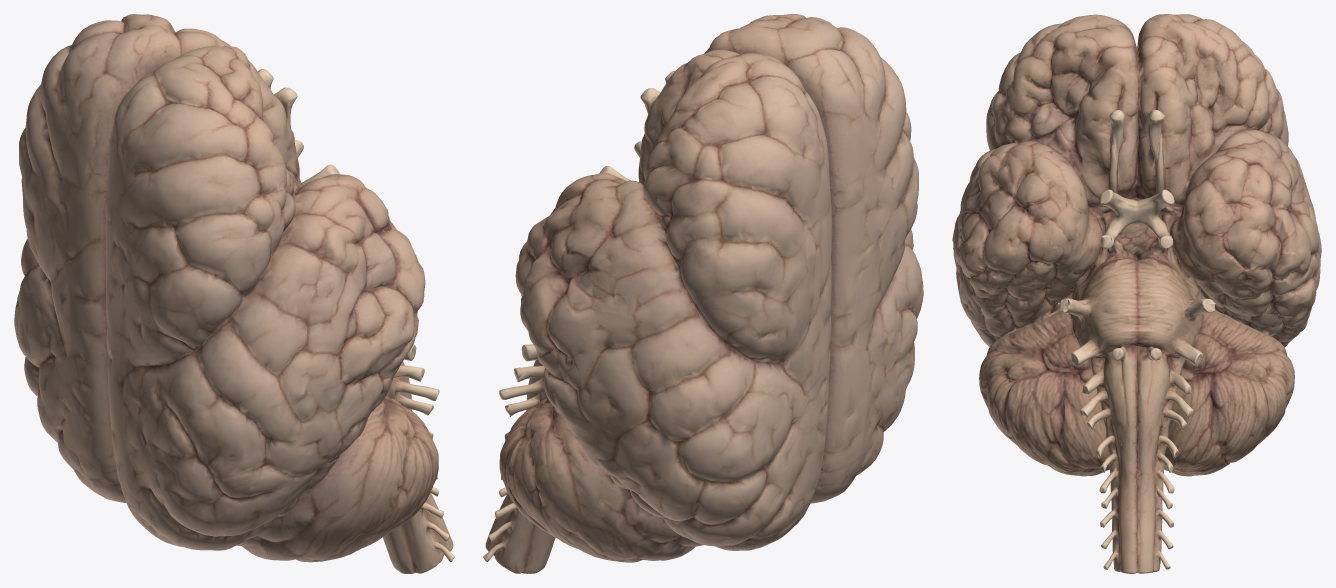
Rendered from cranial-nerves.glb.
3 renders of one model, left to right at view 1: azimuth 30°, elevation 25°; view 2: azimuth 150°, elevation 25°; view 3: azimuth 270°, elevation 25°, orthographic. The views are drawn at different scales.
Parts seen in each view (by area): view 1: tripo_node_cd872a46-5259-4d2f-b544-a851c06382d0; view 2: tripo_node_cd872a46-5259-4d2f-b544-a851c06382d0; view 3: tripo_node_cd872a46-5259-4d2f-b544-a851c06382d0.
Part boxes in pixels (x1,y1,x2,y2): tripo_node_cd872a46-5259-4d2f-b544-a851c06382d0: (14,14,454,573); tripo_node_cd872a46-5259-4d2f-b544-a851c06382d0: (483,14,923,573); tripo_node_cd872a46-5259-4d2f-b544-a851c06382d0: (952,14,1321,573).
Bounding box in the file's own units: 0.6451 × 0.9998 × 0.725.
1 material, 1 textured.
